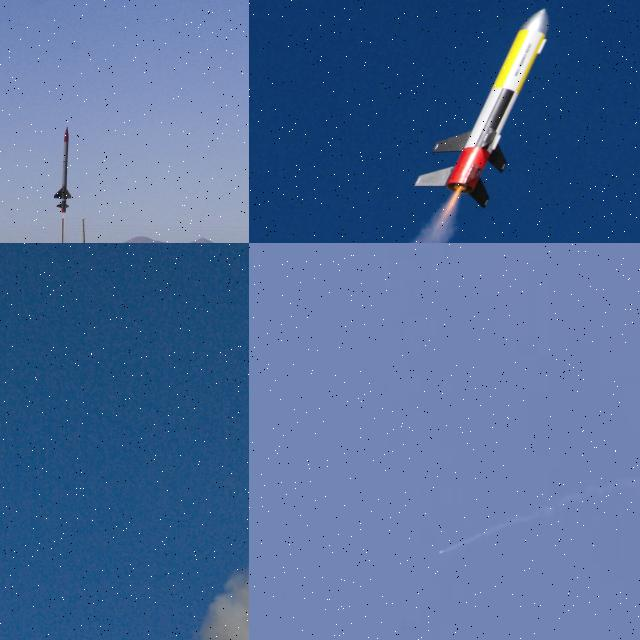Rocket: (412, 6, 552, 210), (54, 125, 72, 212), (439, 552, 441, 554)
